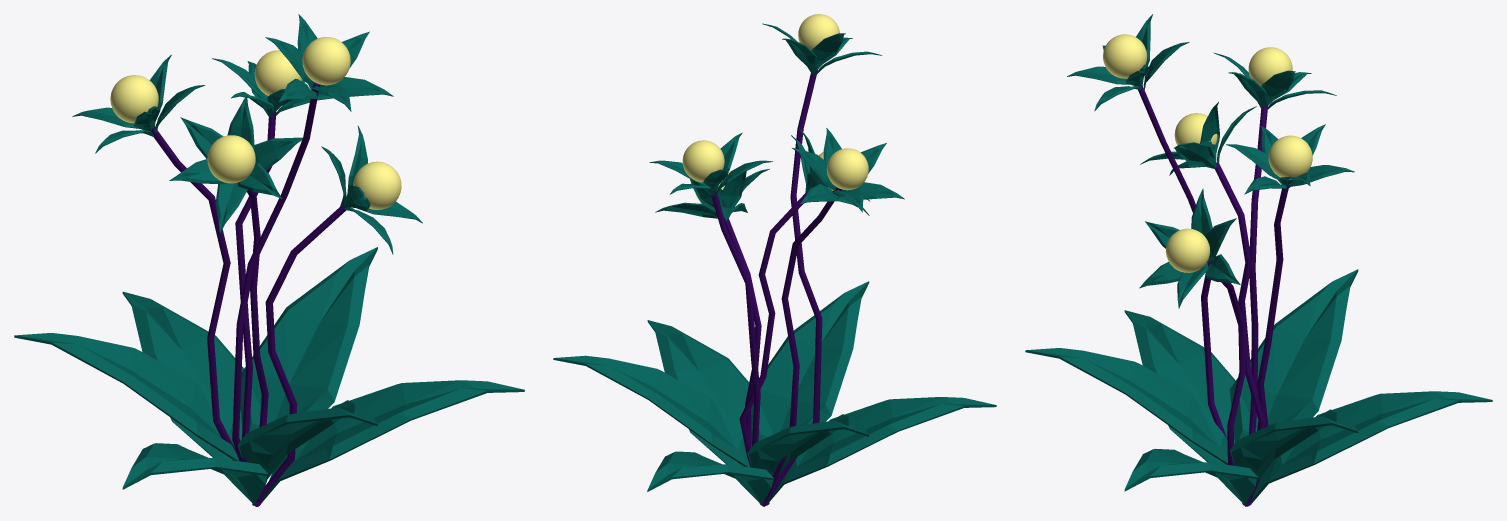
File: Bulbplant_1.fbx
The picture shows the model from 3 angles, left to right: view 1: azimuth 30°, elevation 25°; view 2: azimuth 150°, elevation 25°; view 3: azimuth 270°, elevation 25°; orthographic projection. The views are drawn at different scales.
Parts seen in each view (by area): view 1: BulbPlant_1; view 2: BulbPlant_1; view 3: BulbPlant_1.
Boxes of the visible parts, x1,y1,x2,y2 form: BulbPlant_1: (14, 14, 524, 506); BulbPlant_1: (553, 14, 996, 506); BulbPlant_1: (1025, 14, 1492, 506).
Size of the model in its own units: 125 by 153 by 137.
